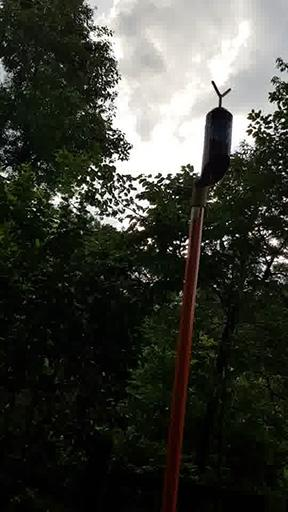Detector_Tensao_Contato: (200, 81, 234, 184)
Vara_Manobra: (163, 184, 210, 512)
